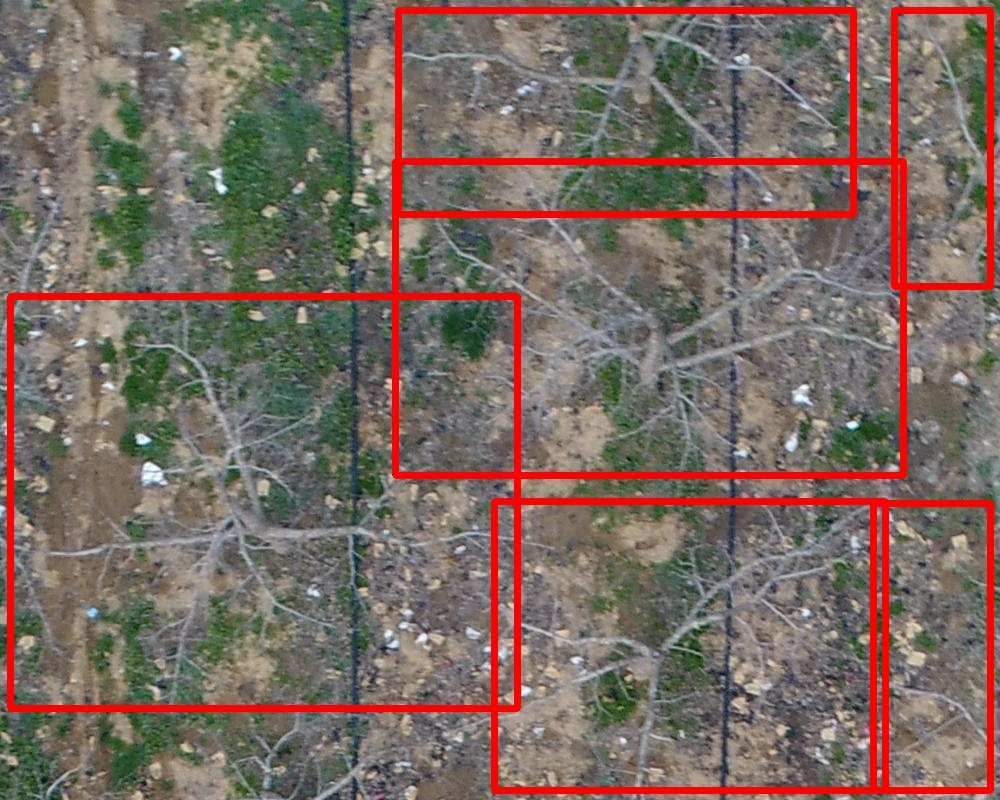apple: (10, 296, 517, 708), (395, 161, 903, 475), (494, 501, 885, 790), (398, 10, 853, 214), (873, 503, 990, 790), (894, 10, 990, 286)
